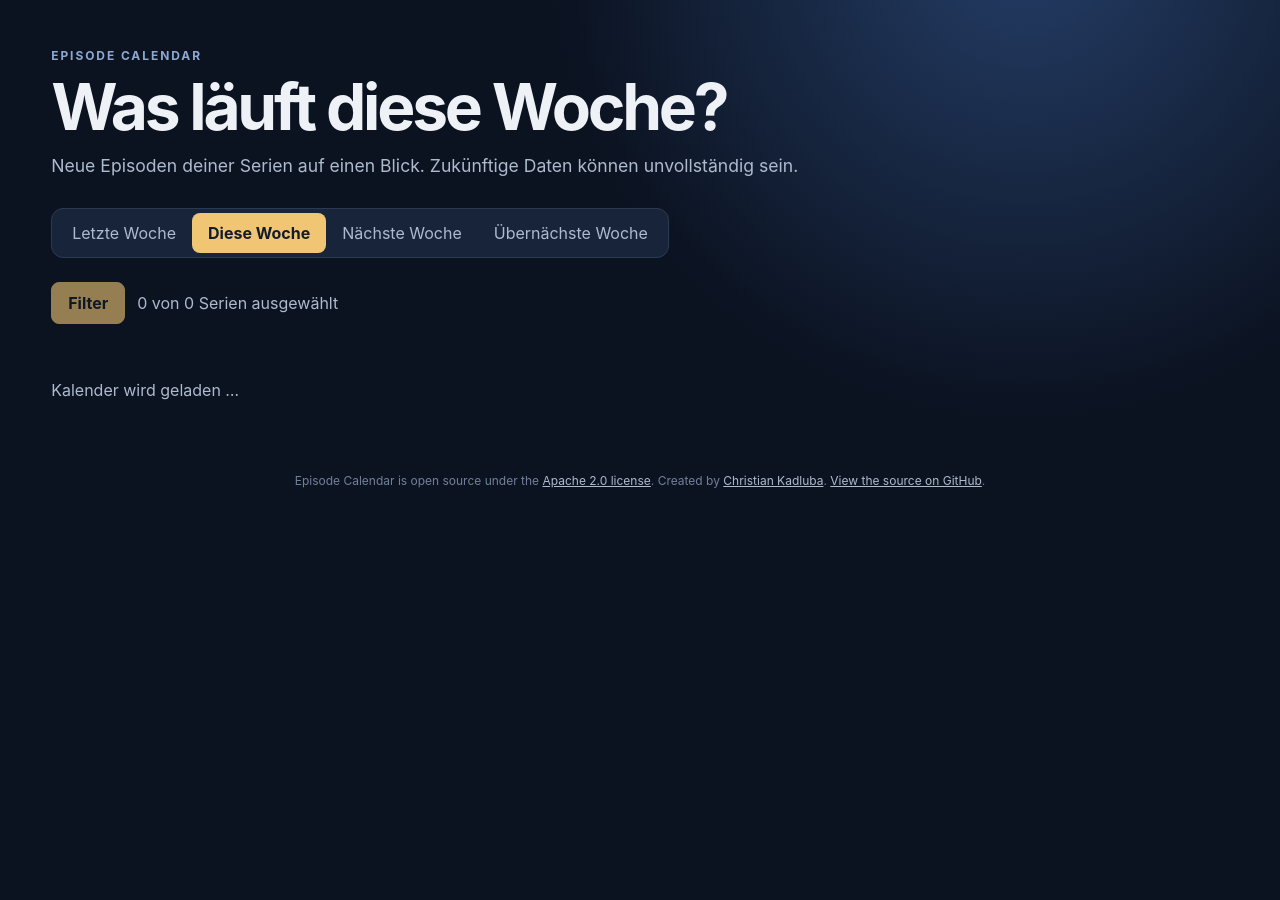
App preferences › uses a future-oriented heading for the week after next
The image size is (1280, 900).
Click the button "Übernächste Woche": (571, 233) [478,213,664,253]
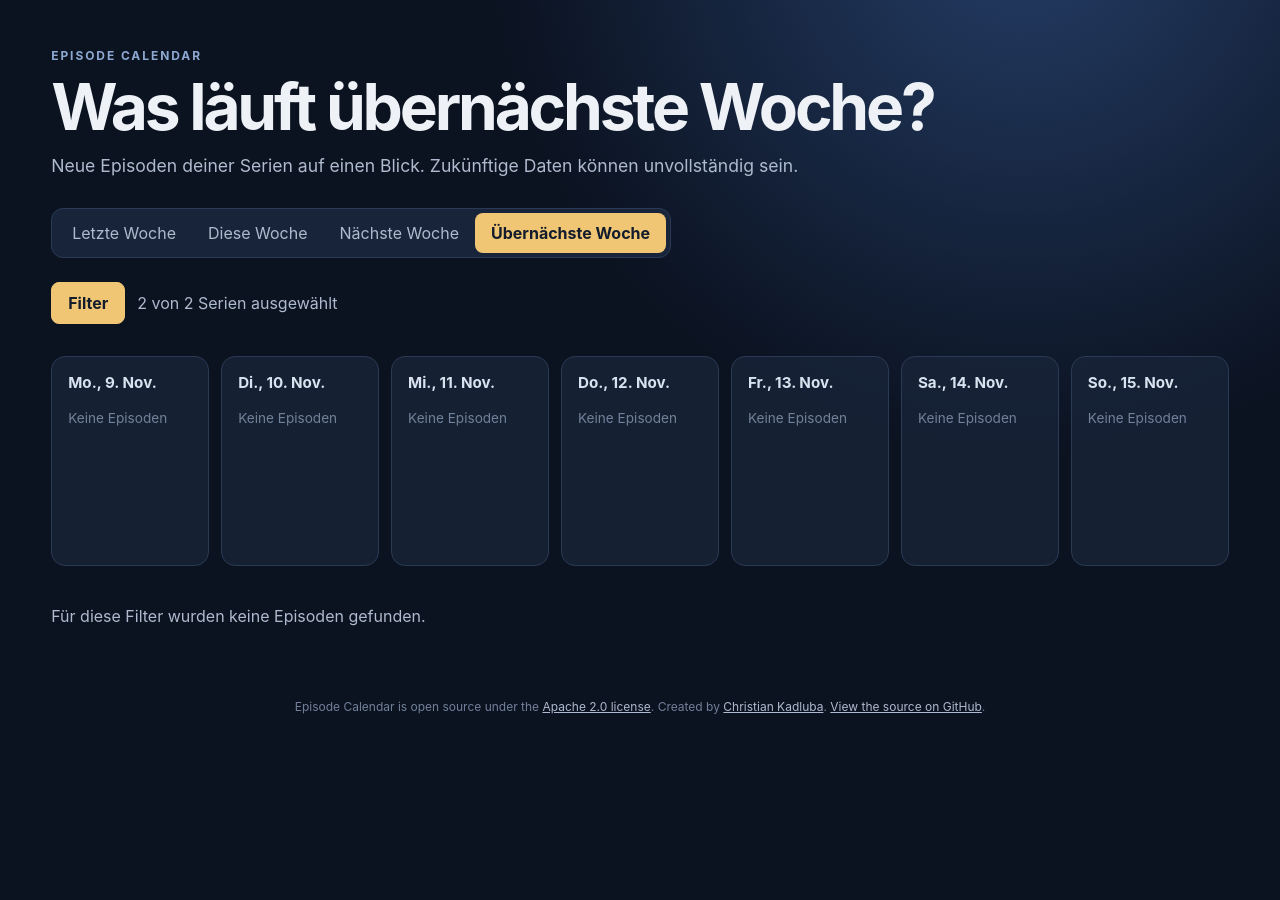
Result: the heading "Was läuft übernächste Woche?" is shown at [51,68,934,145]
